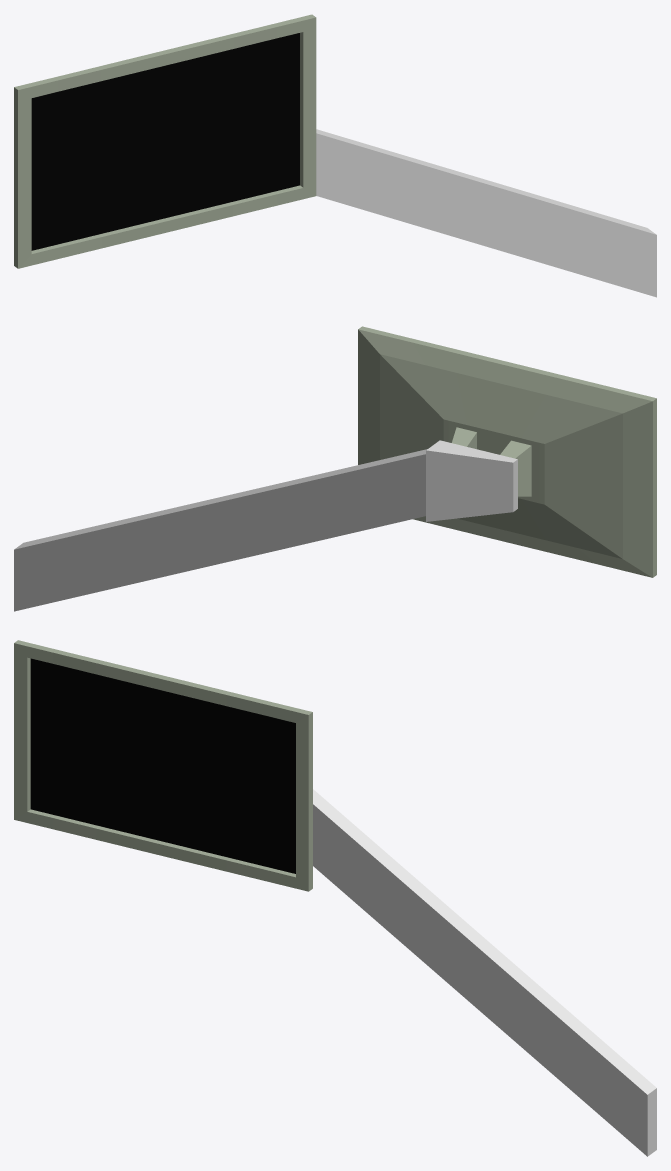
The model's file is tablet3.0.glb.
3 views of the same model, one above another, from view 1: azimuth 30°, elevation 25°; view 2: azimuth 150°, elevation 25°; view 3: azimuth 330°, elevation 25° (orthographic).
Visible parts, largest first — view 1: Cube.003, Cube.004; view 2: Cube.003, Cube.004; view 3: Cube.003, Cube.004.
Boxes of the visible parts, x1,y1,x2,y2 form: Cube.003: [14, 14, 316, 268]; Cube.004: [316, 129, 656, 297]; Cube.003: [358, 326, 656, 577]; Cube.004: [14, 440, 517, 611]; Cube.003: [14, 640, 312, 891]; Cube.004: [313, 789, 656, 1156].
Size of the model in its own units: 1.26 by 0.6861 by 0.153.
